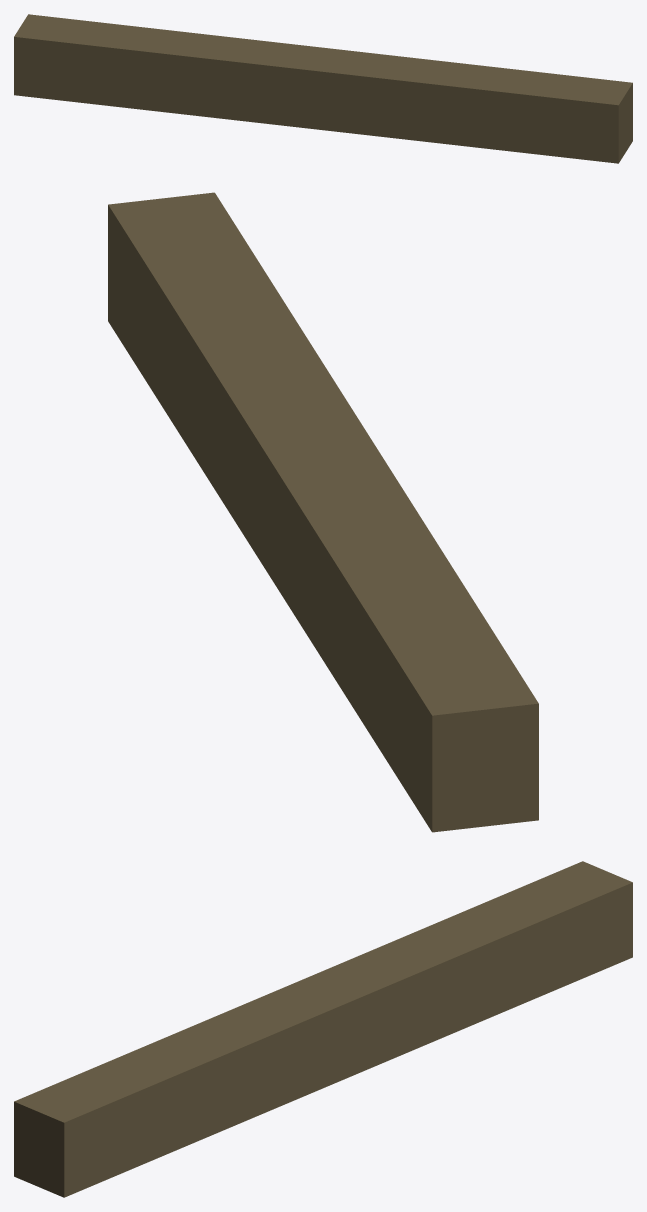
Rendered from OS-Level3-NorthernConduit-LOD0.glb.
The picture shows the model from 3 angles, top to bottom: view 1: azimuth 30°, elevation 25°; view 2: azimuth 150°, elevation 25°; view 3: azimuth 270°, elevation 25°; orthographic projection. The views are drawn at different scales.
Parts seen in each view (by area): view 1: Northern Conduit; view 2: Northern Conduit; view 3: Northern Conduit.
Boxes of the visible parts, box(x1,y1,x2,y2) form: Northern Conduit: box(14, 14, 632, 163); Northern Conduit: box(108, 192, 538, 832); Northern Conduit: box(14, 861, 632, 1197).
Size of the model in its own units: 5.23 by 0.7 by 5.23.
